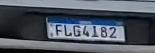Placa_mercosul_carro: (45, 17, 126, 42)
